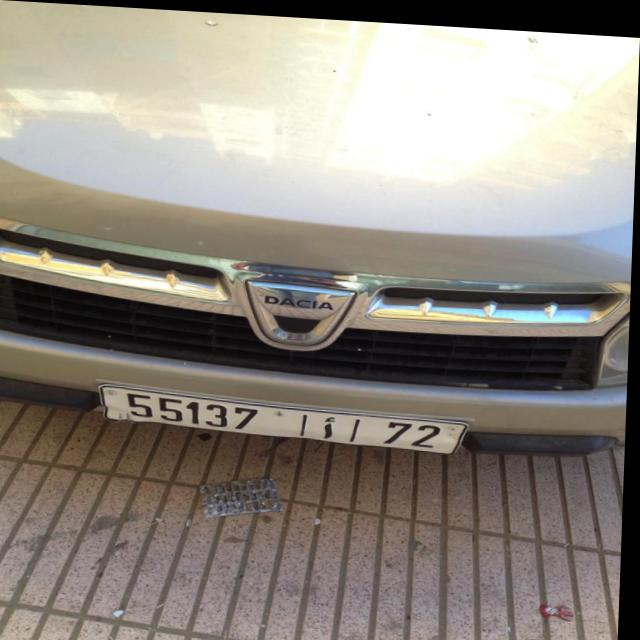License-Plate: (102, 383, 472, 447)
